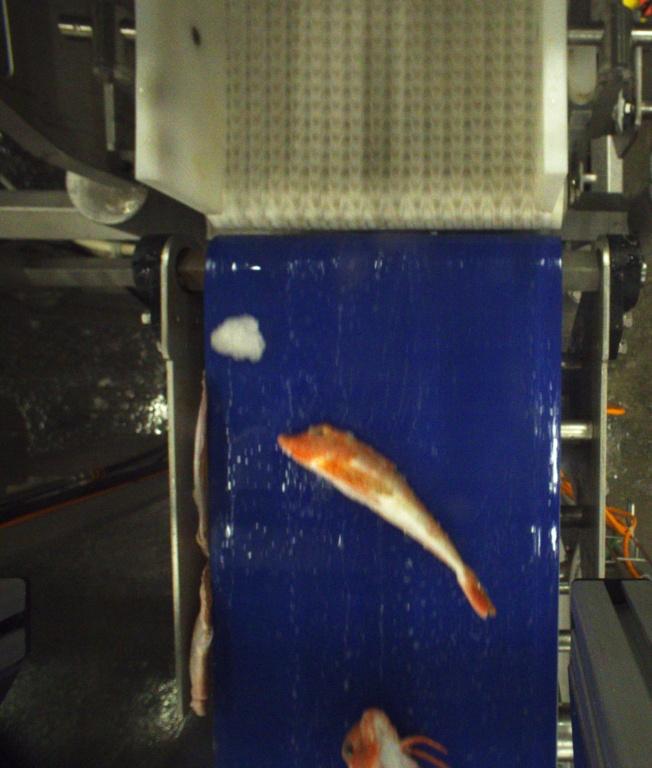GUU: (276, 422, 495, 620)
